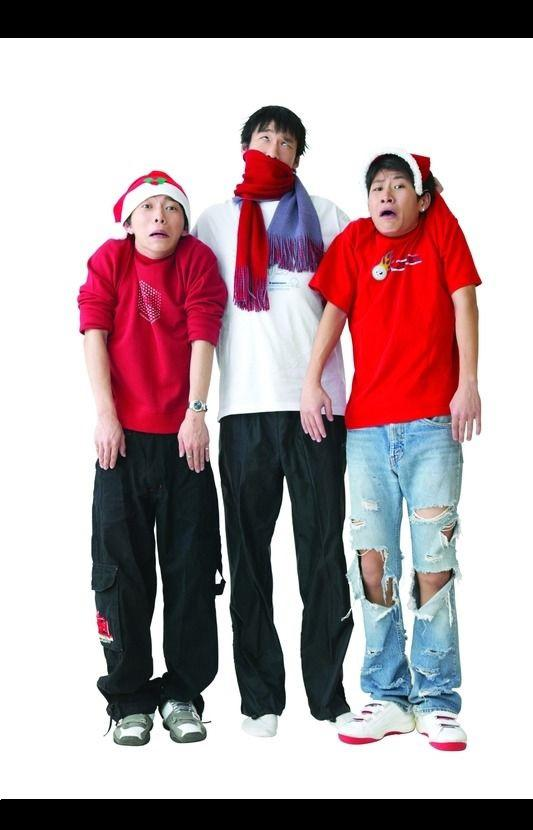NONE: (368, 175, 417, 232), (137, 198, 182, 251)
WRONG: (247, 127, 302, 184)
